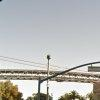Bridge: (5, 59, 94, 92)
